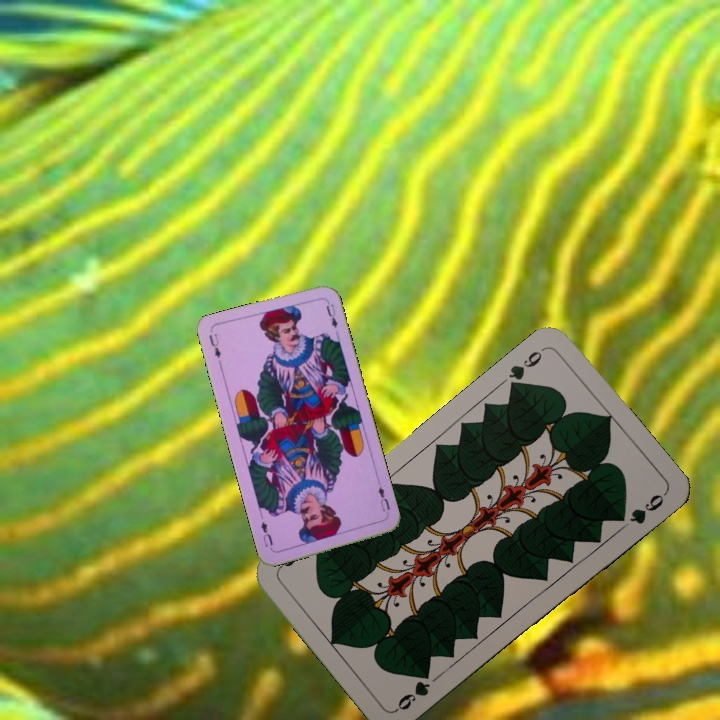EU: (374, 479, 393, 519), (205, 329, 223, 361)
G9: (504, 343, 548, 394), (392, 676, 433, 713)
